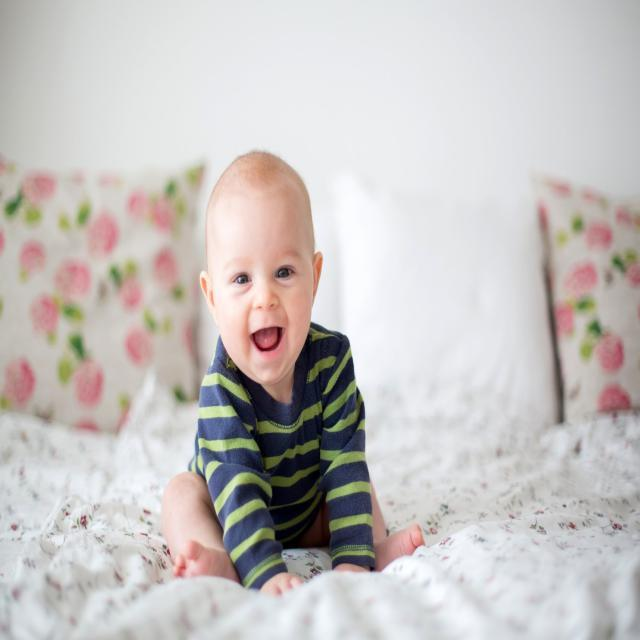non-dog: (156, 150, 428, 608)
